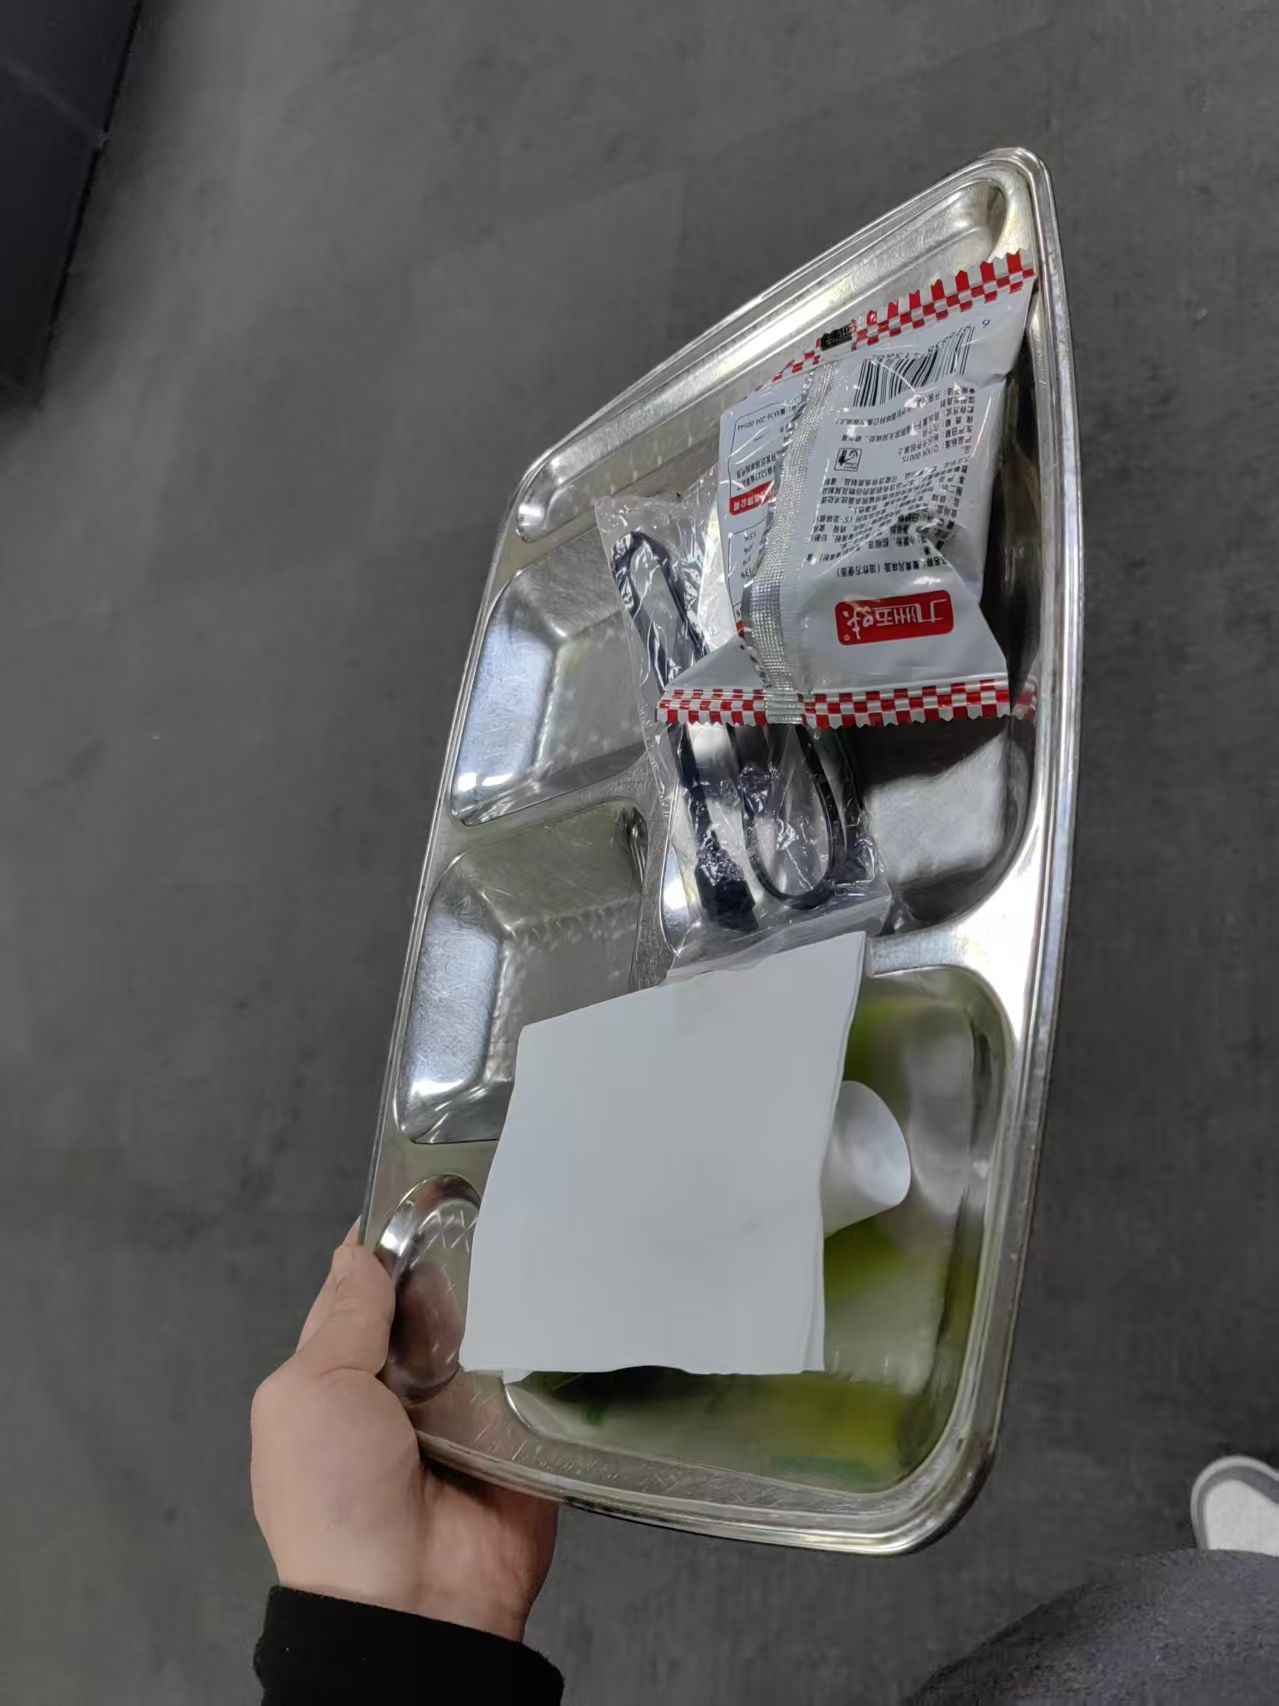moderate: (590, 252, 1049, 947)
plate: (346, 144, 1087, 1559)
tissue: (459, 929, 870, 1375)
